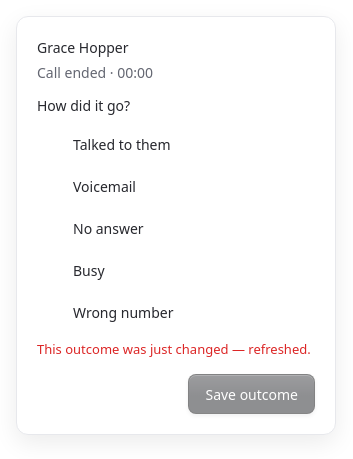
Test: CallPanel — How did it go? (SLICE_006c §10, §13 item 3) › renders the owner-supplied error copy with the picker still open
Check: the message with test id "call-outcome-error" reads "This outcome was just changed — refreshed.", box [37,340,311,358]
Check: the element with test id "outcome-picker" is shown, box [37,124,315,332]
Click the radio button labelled "Busy" at (89, 270), box [37,250,315,290]
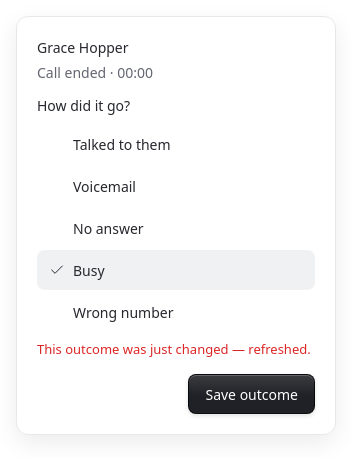
Check: the button with test id "call-outcome-save" is enabled, box [188,374,315,414]
